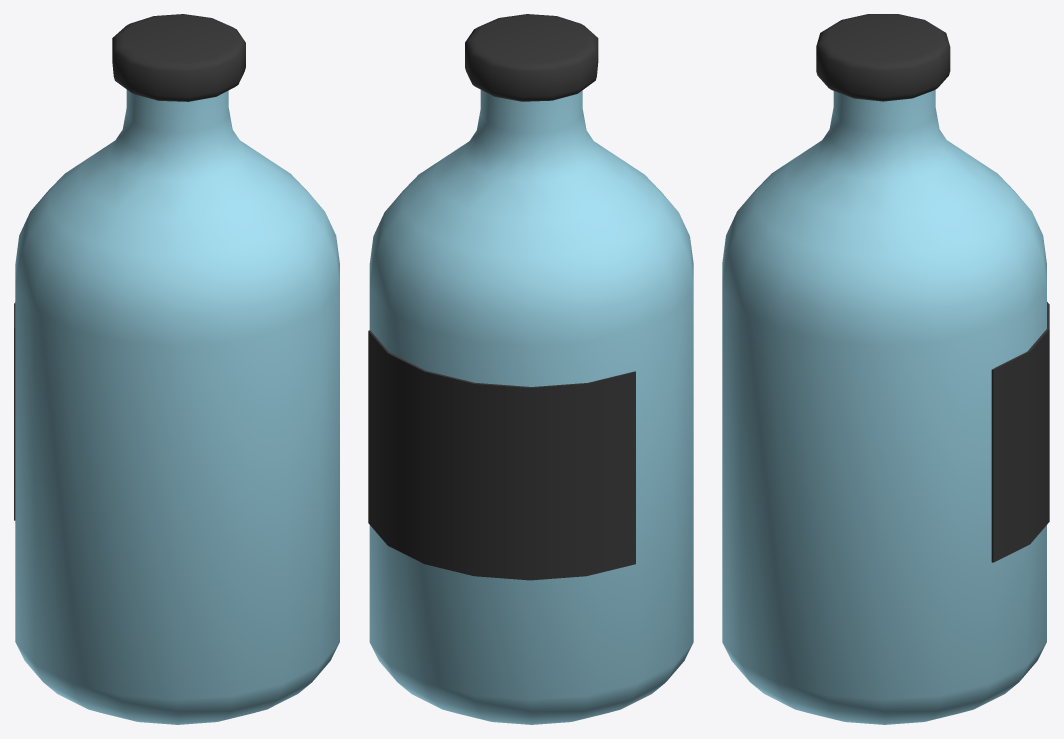
The model's file is SM_Bubble_01.FBX.
3 renders of one model, left to right at view 1: azimuth 30°, elevation 25°; view 2: azimuth 150°, elevation 25°; view 3: azimuth 270°, elevation 25°, orthographic.
Visible parts, largest first — view 1: SM_Bubble_01_LOD0; view 2: SM_Bubble_01_LOD0; view 3: SM_Bubble_01_LOD0.
Part boxes in pixels (box(x1,y1,x2,y2)): SM_Bubble_01_LOD0: box(14, 14, 339, 724); SM_Bubble_01_LOD0: box(368, 14, 693, 724); SM_Bubble_01_LOD0: box(722, 14, 1049, 724).
Size of what is drawn, in the model's own units: 8.44 by 8.38 by 18.
